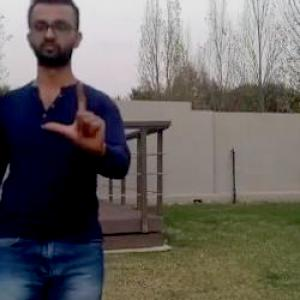land_hand: (49, 80, 120, 164)
